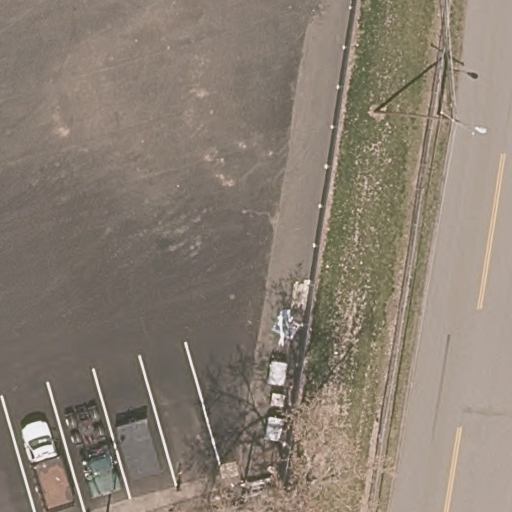DT: (438, 106, 487, 137)
